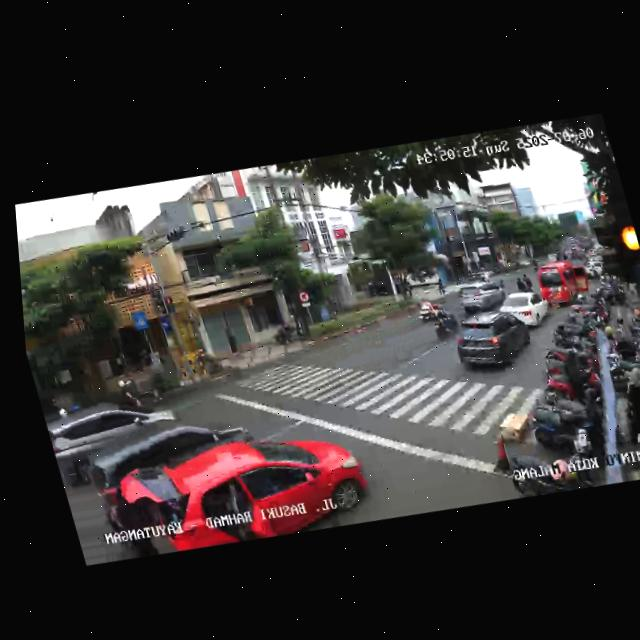car: (160, 414, 380, 560), (77, 399, 272, 538), (41, 385, 196, 499), (446, 303, 542, 384), (534, 255, 597, 313), (494, 285, 554, 335), (455, 275, 510, 318)
motorcycle: (425, 296, 459, 339), (413, 292, 446, 325)
person: (519, 271, 534, 293), (514, 276, 526, 292)
